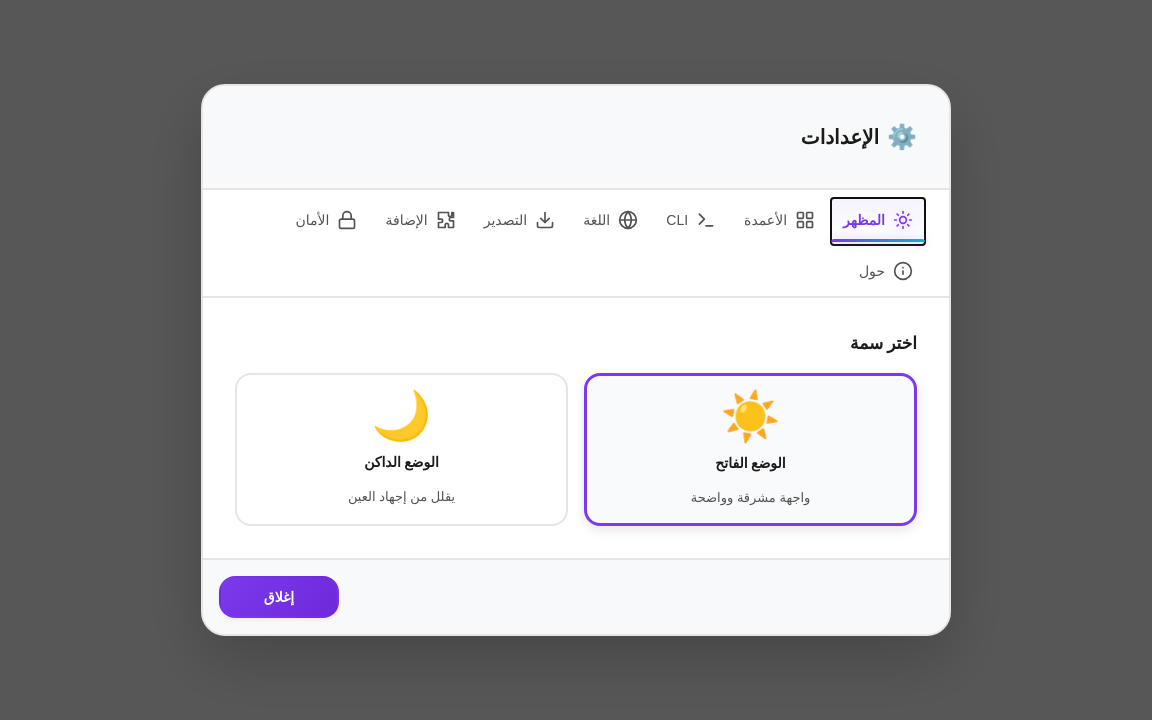
Test: onglet CLI (arabe) : noms de coffres isolés en ltr, interrupteurs en propriétés logiques
This screenshot has width=1152, height=720.
Click the tab "CLI" at (691, 222), box x1=654 y1=198 x2=728 y2=245
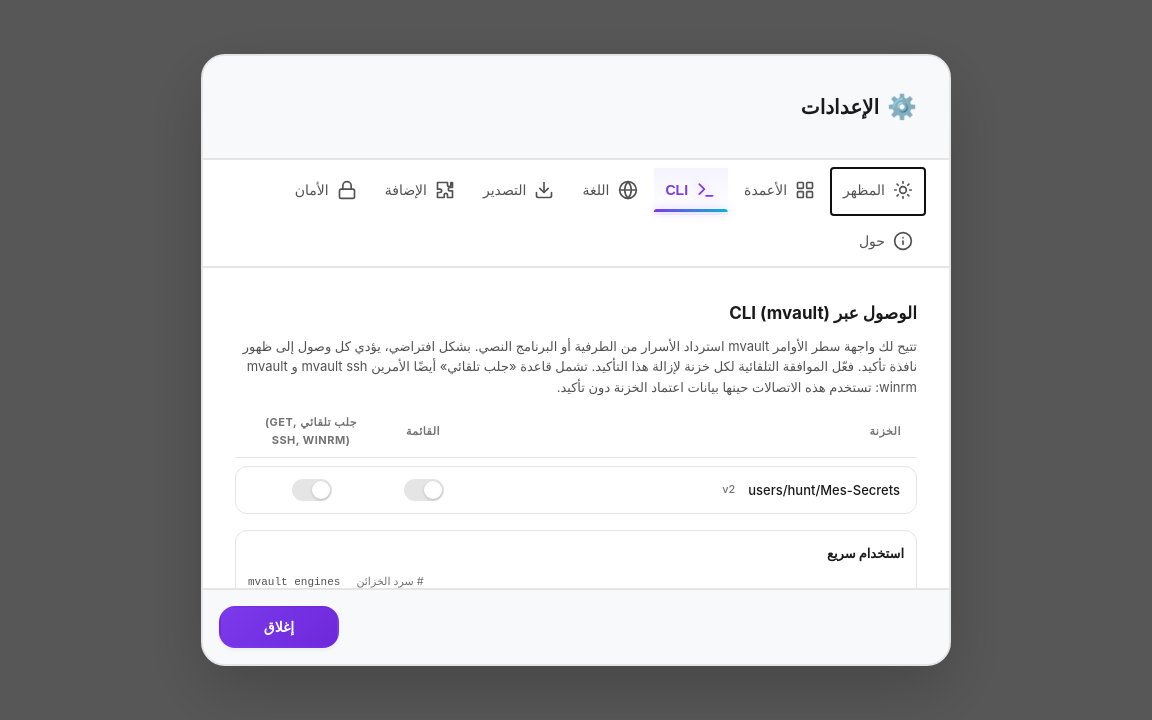
expect the text "users/hunt/Mes-Secrets" is shown: met, box x1=748 y1=480 x2=900 y2=500
